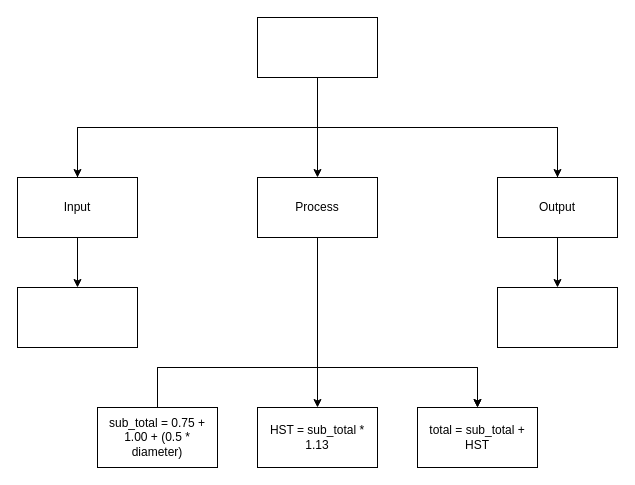
The diagram is 635 pixels wide and 485 high, and some of its shapes have lost their labels. The centre of each missing label's shape, as x and y in pixels:
Get diameter: pixel 77 317
Pizza Cost: pixel 317 47
Show total: pixel 557 317
